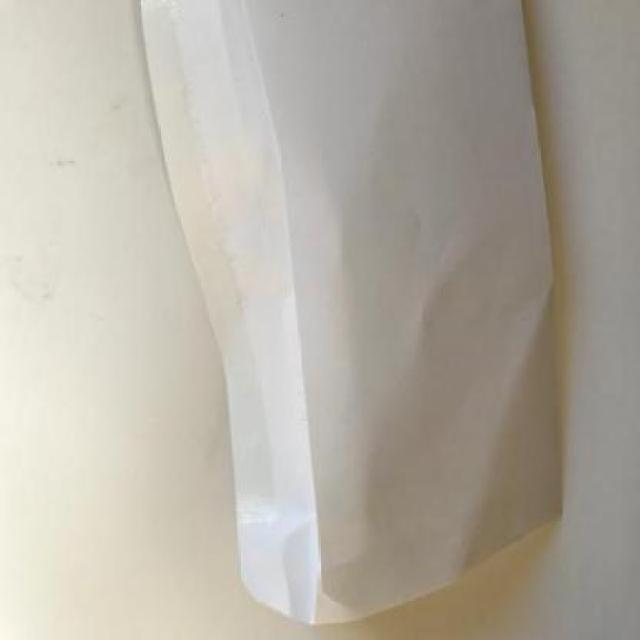PAPER: (136, 0, 561, 622)
